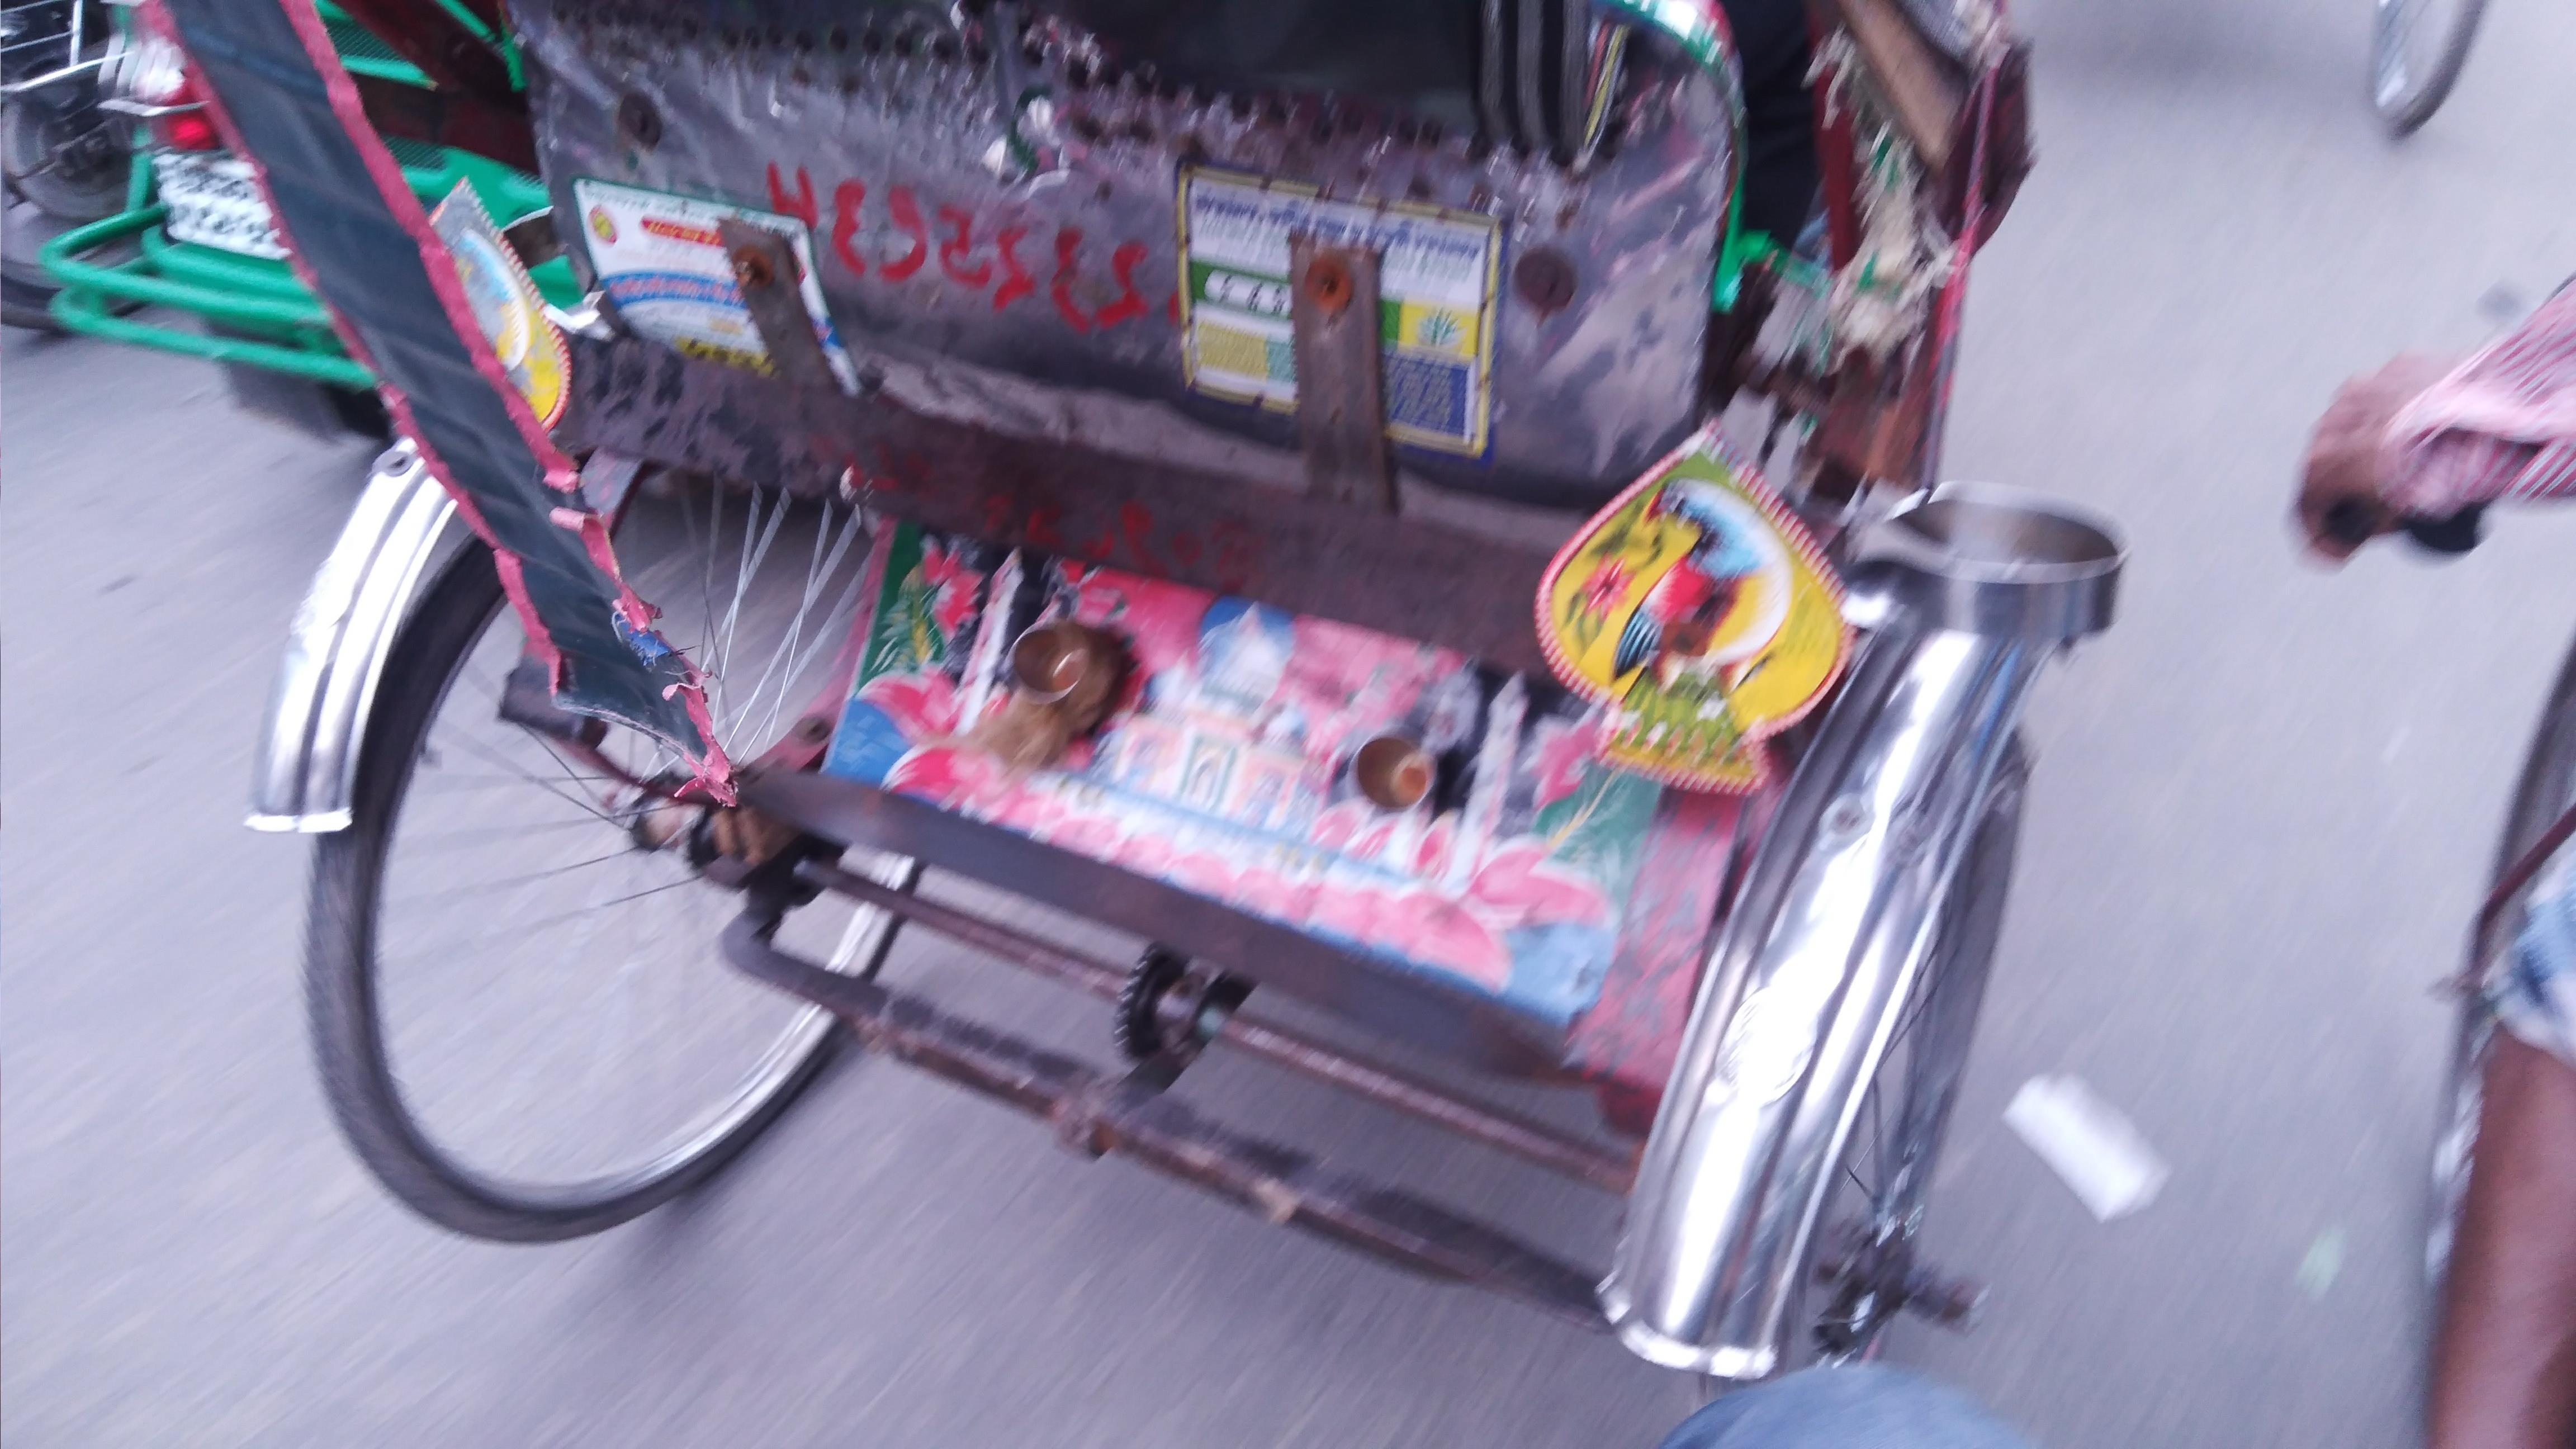Rickshaw: (219, 12, 2042, 1330)
